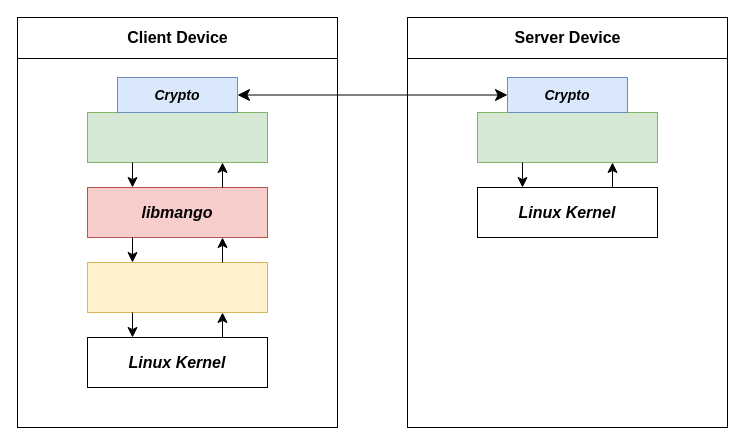
Some shapes in this 745 by 445 pixel diagram are drawn without their labels. The centre of each missing label's shape, as x and y in pixels:
"BBQRTRM" goes at point (177, 287).
"Beer Client" goes at point (177, 137).
"Beer Server" goes at point (567, 137).
